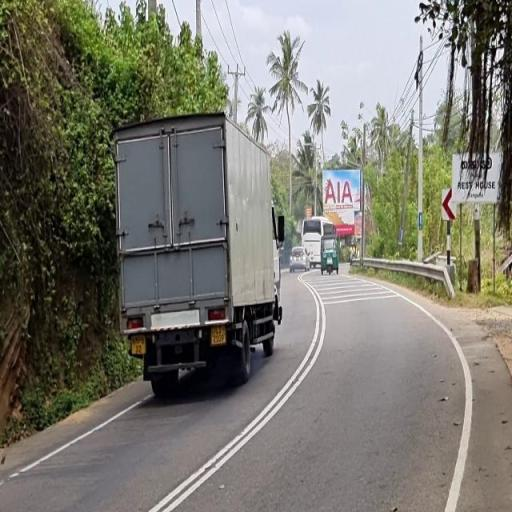double_white_line: (142, 284, 326, 510)
